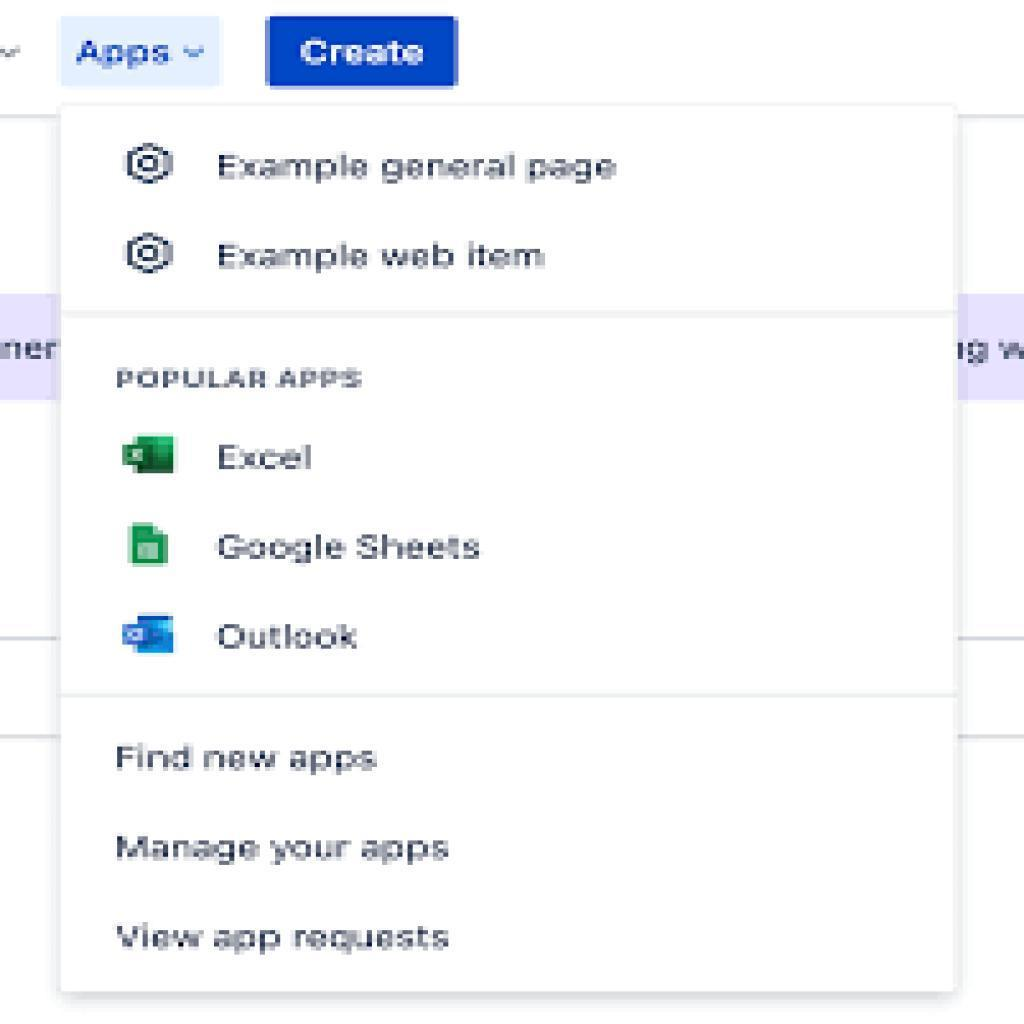button: (267, 19, 455, 89)
dropdown: (63, 19, 221, 95)
icon: (116, 602, 186, 664), (121, 135, 183, 197), (125, 514, 183, 571), (118, 429, 181, 480), (124, 227, 178, 284)
